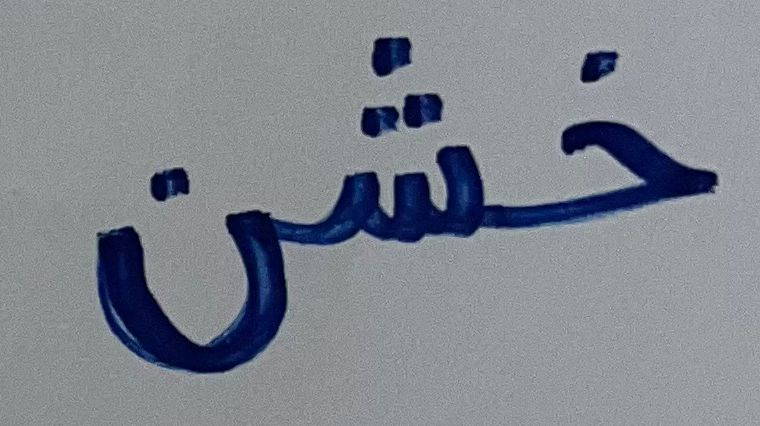khah: (508, 25, 724, 242)
noon: (60, 139, 297, 381)
sheen: (301, 27, 497, 257)
